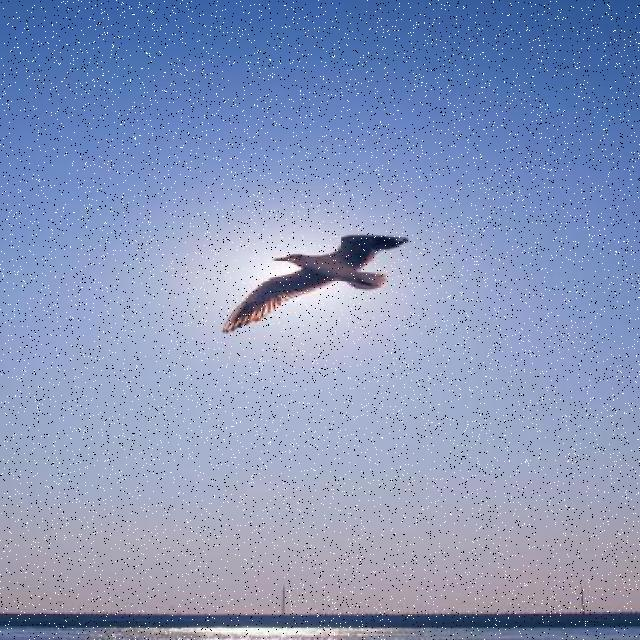bird: (222, 234, 410, 334)
